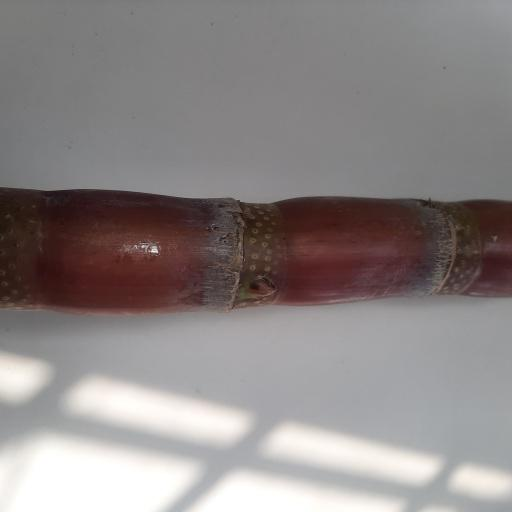Bud: (246, 274, 280, 302)
